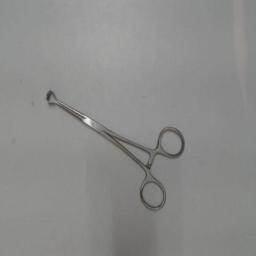Babcock Tissue Forceps: (43, 88, 187, 214)
